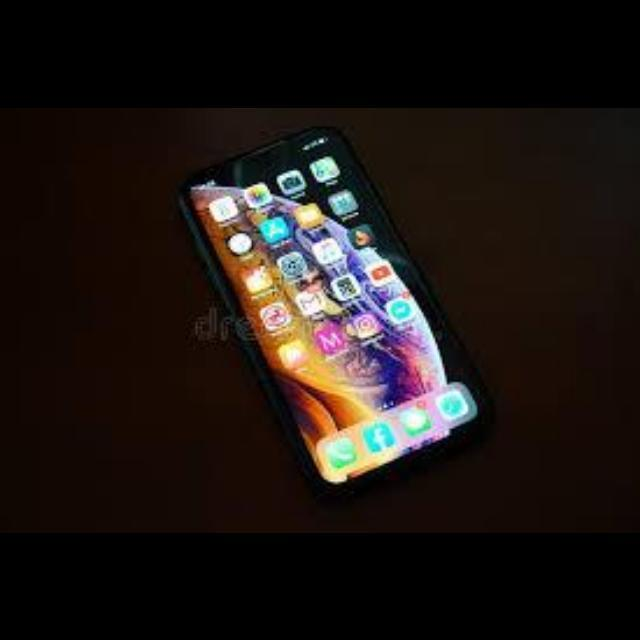phone: (139, 116, 529, 501)
